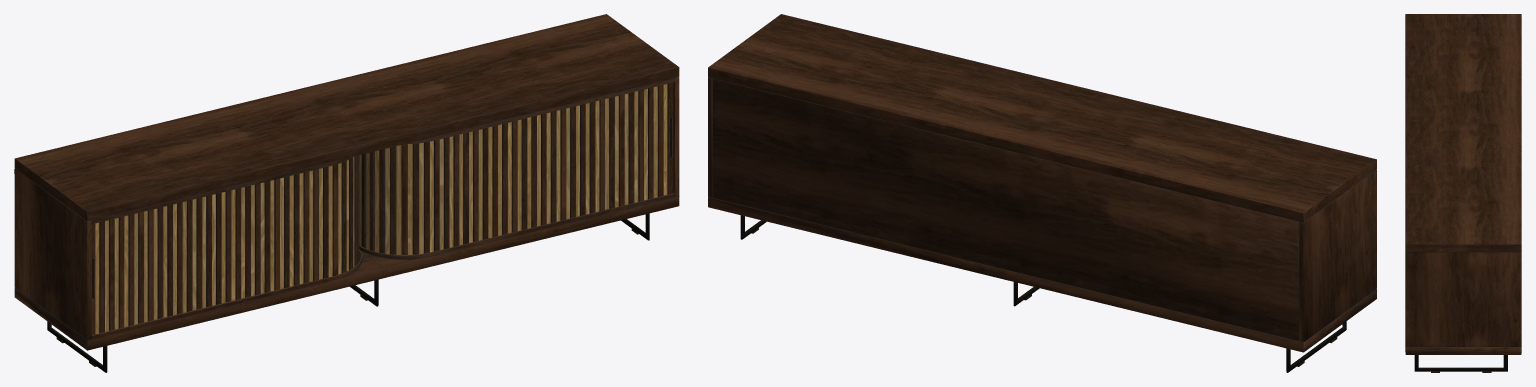
Rendered from sideboard-slatted.glb.
3 renders of one model, left to right at view 1: azimuth 30°, elevation 25°; view 2: azimuth 150°, elevation 25°; view 3: azimuth 270°, elevation 25°, orthographic. The views are drawn at different scales.
Parts seen in each view (by area): view 1: modern_wooden_cabinet_body, modern_wooden_cabinet_door_r, modern_wooden_cabinet_door_l; view 2: modern_wooden_cabinet_body; view 3: modern_wooden_cabinet_body.
Part boxes in pixels (x1=…): modern_wooden_cabinet_body: x1=14, y1=14, x2=679, y2=372; modern_wooden_cabinet_door_r: x1=359, y1=82, x2=673, y2=254; modern_wooden_cabinet_door_l: x1=91, y1=155, x2=359, y2=334; modern_wooden_cabinet_body: x1=708, y1=14, x2=1376, y2=372; modern_wooden_cabinet_body: x1=1405, y1=14, x2=1521, y2=372.
Bounding box in the file's own units: 2.44 × 0.6801 × 0.5201.
Materials: 1 (1 with a texture image).
